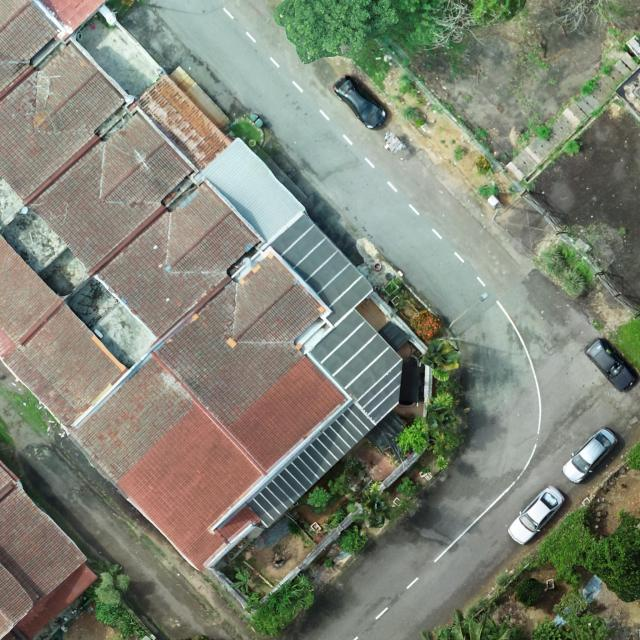Tree: (272, 0, 528, 64), (539, 500, 598, 594), (584, 516, 640, 603), (246, 572, 316, 636), (421, 607, 517, 640), (422, 338, 462, 382), (360, 480, 390, 530), (394, 414, 430, 454), (409, 310, 442, 342), (515, 576, 544, 608), (338, 525, 367, 556), (328, 468, 350, 498), (229, 565, 251, 594), (306, 484, 332, 508)
